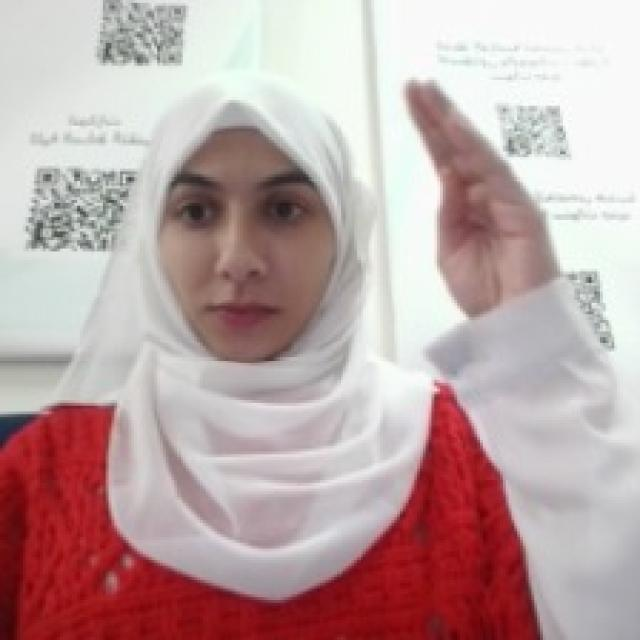Thanks: (394, 66, 563, 320)
